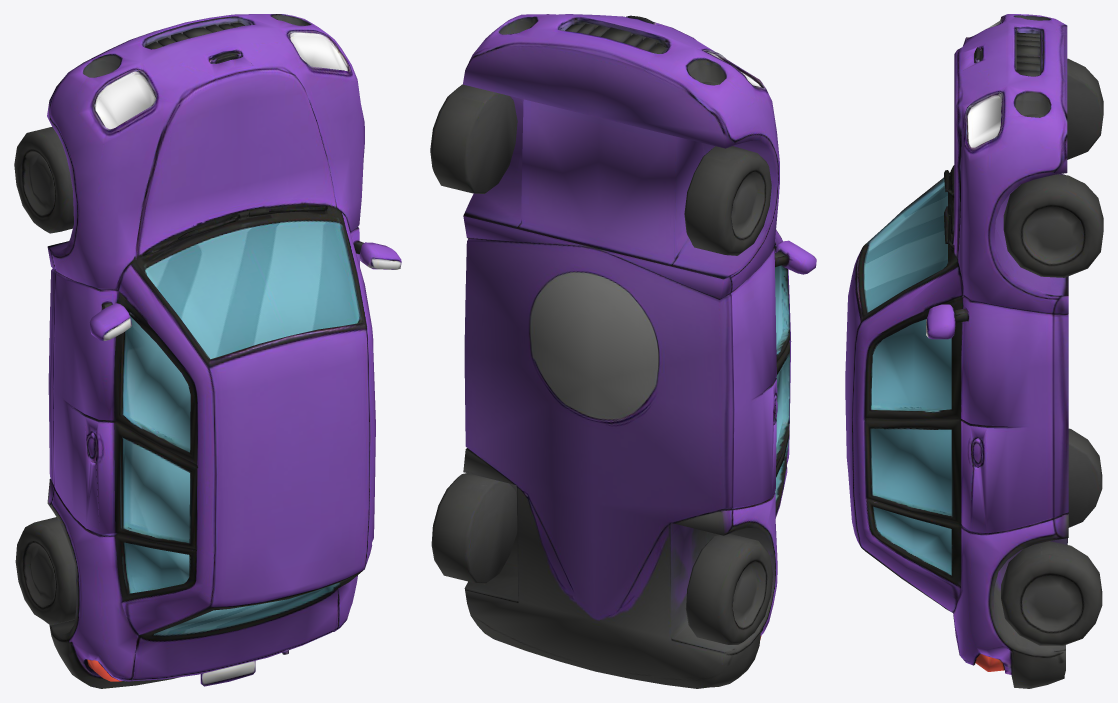
File: selected.fbx
3 views of the same model, side by side, from view 1: azimuth 30°, elevation 25°; view 2: azimuth 150°, elevation 25°; view 3: azimuth 270°, elevation 25° (orthographic). The views are drawn at different scales.
Visible parts, largest first — view 1: tripo_node_6df95bc3-2adb-4c94-8b9c-4b449a78d74a; view 2: tripo_node_6df95bc3-2adb-4c94-8b9c-4b449a78d74a; view 3: tripo_node_6df95bc3-2adb-4c94-8b9c-4b449a78d74a.
Boxes of the visible parts, box(x1,y1,x2,y2) form: tripo_node_6df95bc3-2adb-4c94-8b9c-4b449a78d74a: box(14, 14, 401, 688); tripo_node_6df95bc3-2adb-4c94-8b9c-4b449a78d74a: box(430, 14, 816, 688); tripo_node_6df95bc3-2adb-4c94-8b9c-4b449a78d74a: box(845, 14, 1103, 688).
Size of the model in its own units: 50.2 by 99.8 by 38.87.
Materials: 1 (1 with a texture image).
